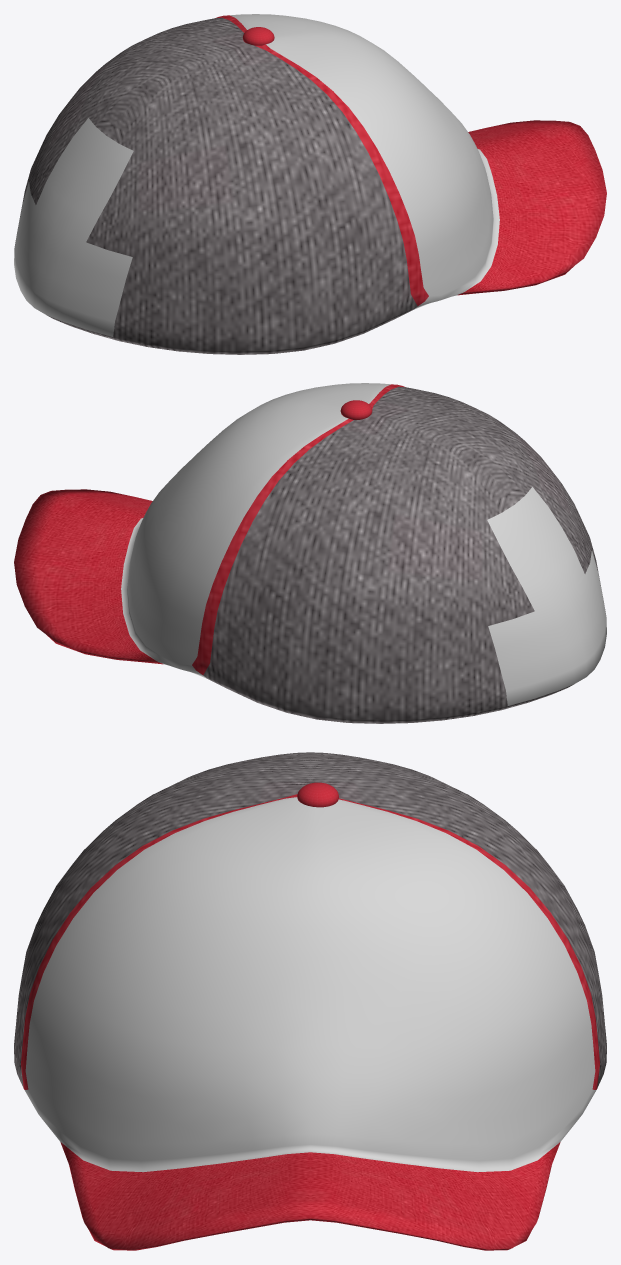
File: apple.fbx
3 renders of one model, top to bottom at view 1: azimuth 30°, elevation 25°; view 2: azimuth 150°, elevation 25°; view 3: azimuth 270°, elevation 25°, orthographic. The views are drawn at different scales.
Visible parts, largest first — view 1: Cap, Sphere_001; view 2: Cap, Sphere_001; view 3: Cap, Sphere_001.
Boxes of the visible parts, left/top/right/bottom form: Cap: left=14, top=14, right=606, bottom=354; Sphere_001: left=242, top=27, right=274, bottom=45; Cap: left=14, top=383, right=606, bottom=723; Sphere_001: left=340, top=400, right=372, bottom=419; Cap: left=14, top=752, right=606, bottom=1250; Sphere_001: left=297, top=782, right=338, bottom=807.
Bounding box in the file's own units: 3.07 × 1.28 × 2.19.
